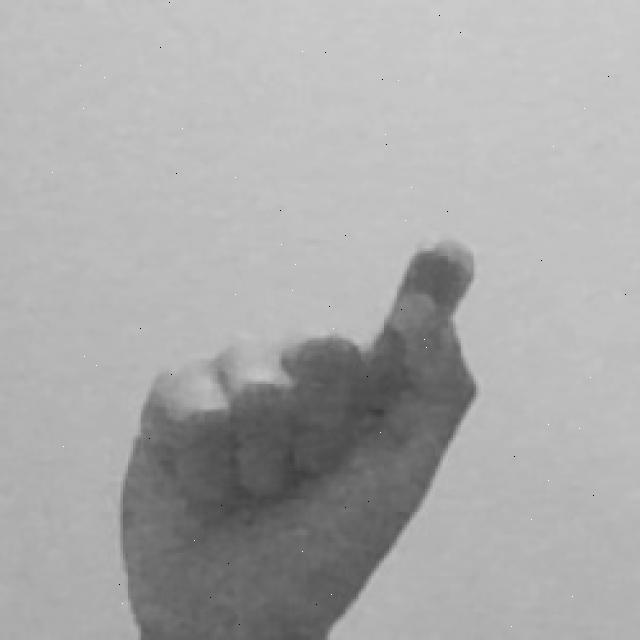T: (114, 232, 484, 640)
